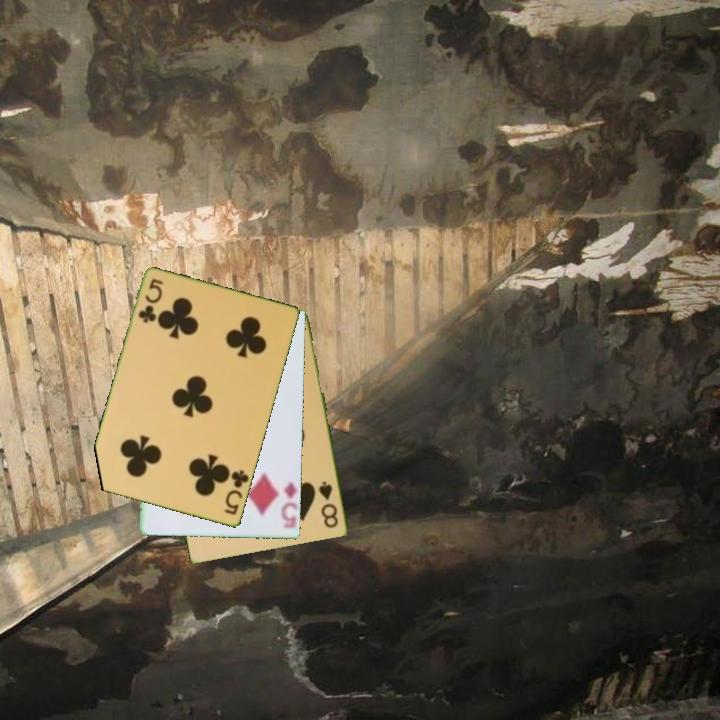5c: (135, 276, 167, 326), (221, 467, 252, 518)
5d: (278, 478, 300, 530)
8s: (315, 478, 341, 531)
